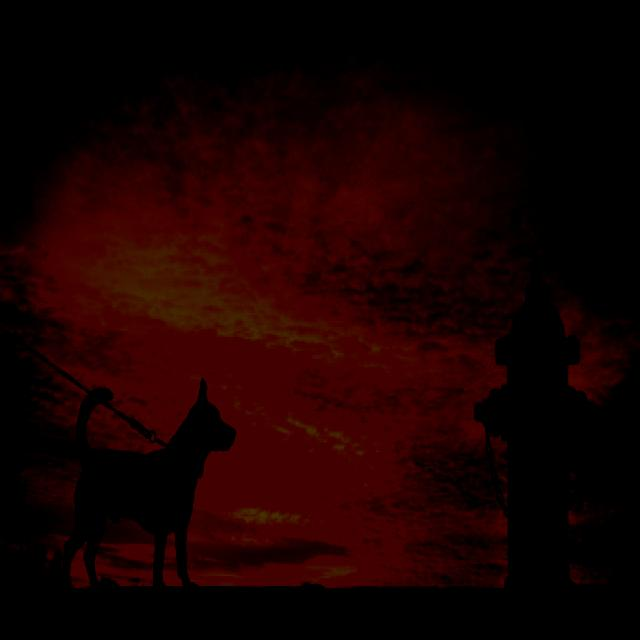Dog: (0, 329, 243, 618)
